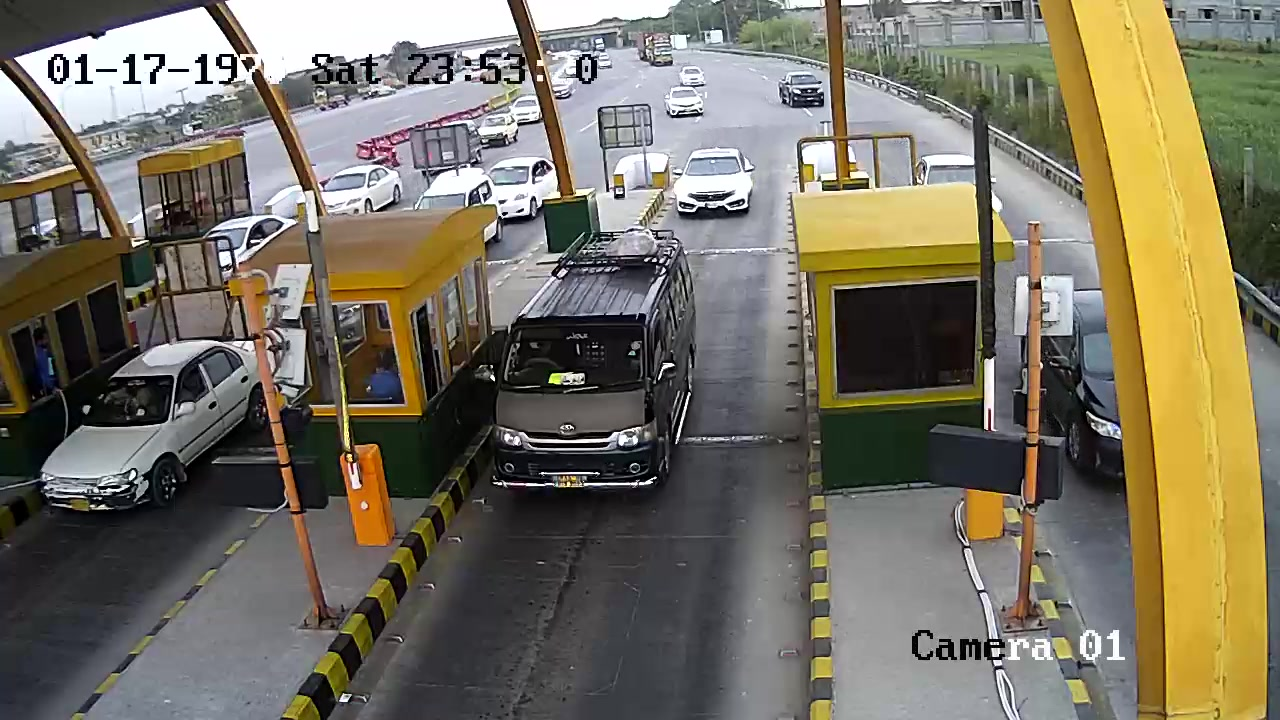F2: (483, 223, 715, 501)
